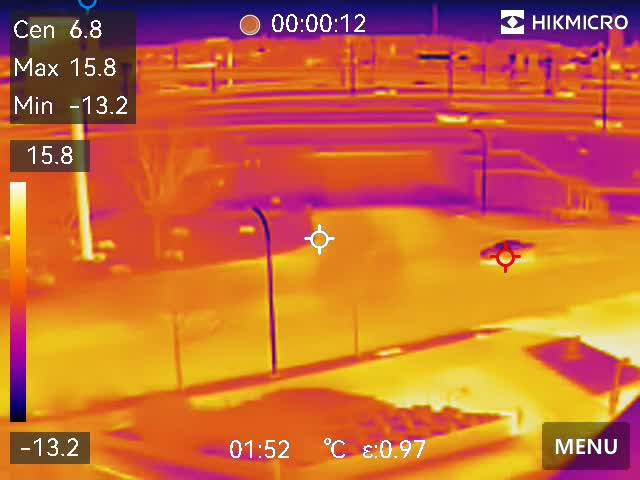smallCar: (475, 237, 538, 265)
vehicle: (472, 110, 506, 130), (434, 110, 468, 126), (590, 115, 623, 131), (367, 87, 400, 98), (549, 89, 575, 102)
